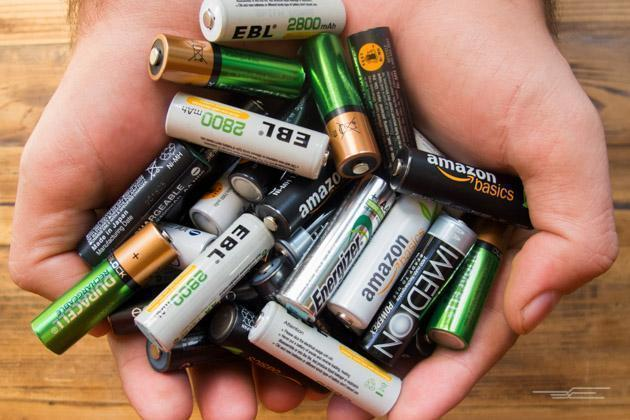AA: (129, 206, 282, 358), (27, 217, 185, 361), (353, 206, 486, 377), (272, 171, 405, 328), (241, 296, 407, 419), (323, 191, 449, 337), (161, 87, 337, 183), (297, 28, 385, 183), (144, 31, 310, 107), (194, 0, 350, 45)
